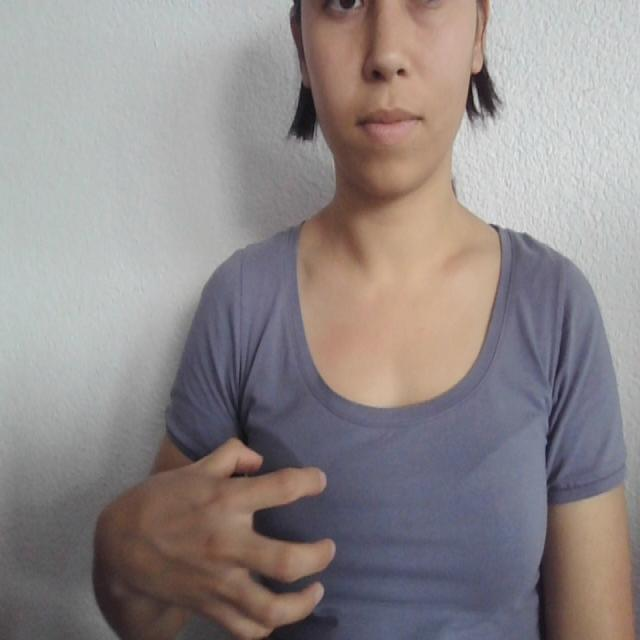Anne: (85, 433, 418, 640)
